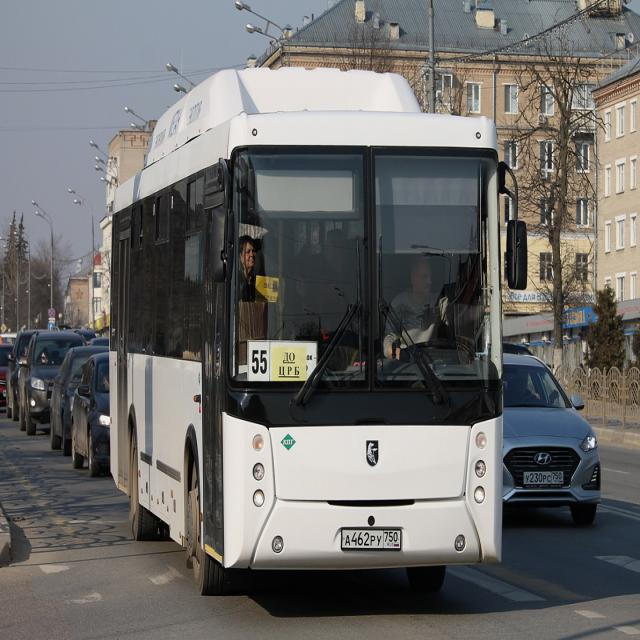number-of-bus: (250, 342, 271, 381)
